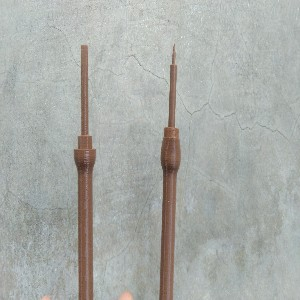obeng: (73, 43, 97, 300)
solder: (158, 42, 182, 300)
